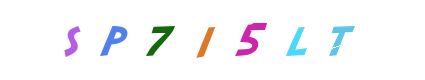1: (165, 0, 245, 80)
5: (172, 0, 252, 80)
7: (120, 0, 200, 80)
L: (211, 0, 291, 80)
P: (74, 0, 154, 80)
S: (63, 0, 143, 80)
T: (262, 0, 342, 80)
